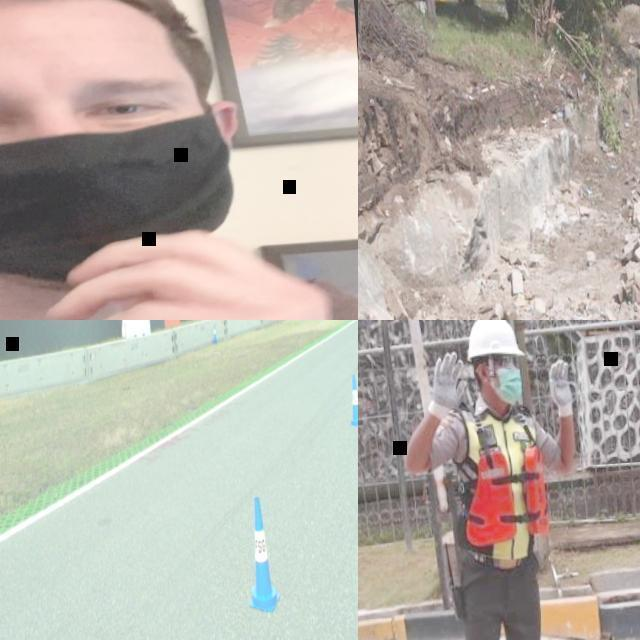helmet: (463, 320, 526, 358)
no_helmet: (0, 0, 191, 78)
